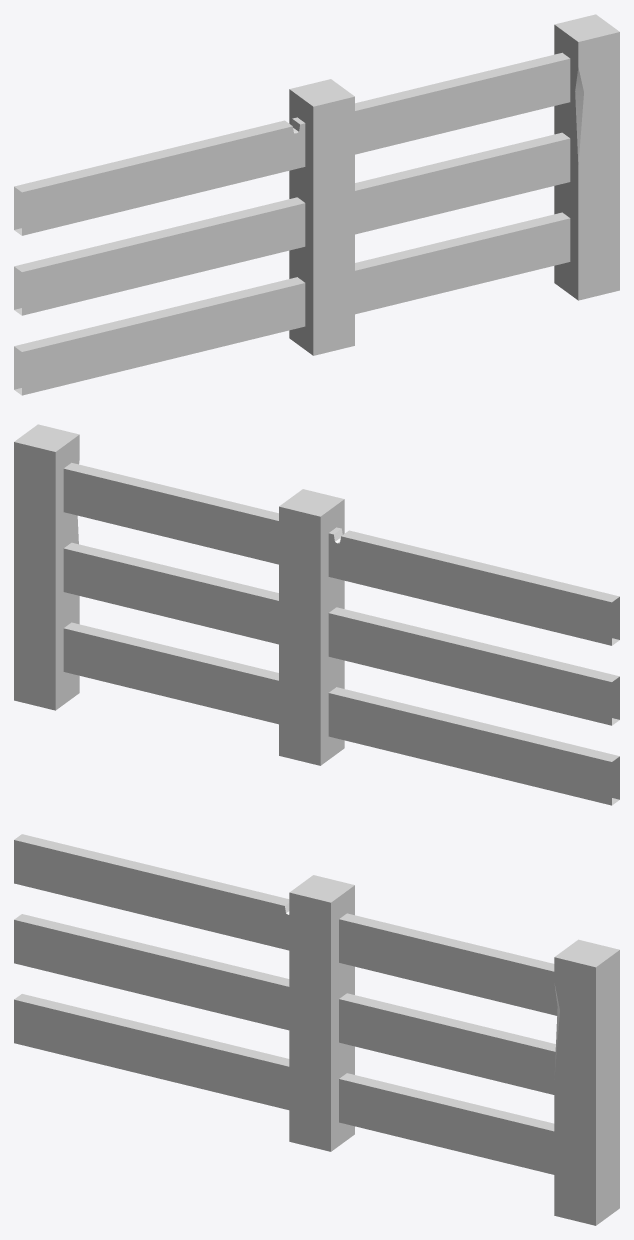
Rendered from Fence_01_TilePart.fbx.
3 views of the same model, one above another, from view 1: azimuth 30°, elevation 25°; view 2: azimuth 150°, elevation 25°; view 3: azimuth 330°, elevation 25° (orthographic).
Parts seen in each view (by area): view 1: Fence_01_TilePart; view 2: Fence_01_TilePart; view 3: Fence_01_TilePart.
Boxes of the visible parts, x1,y1,x2,y2 form: Fence_01_TilePart: (14, 14, 619, 395); Fence_01_TilePart: (14, 424, 619, 805); Fence_01_TilePart: (14, 834, 619, 1225).
Bounding box in the file's own units: 8.43 × 3.53 × 0.5949.
